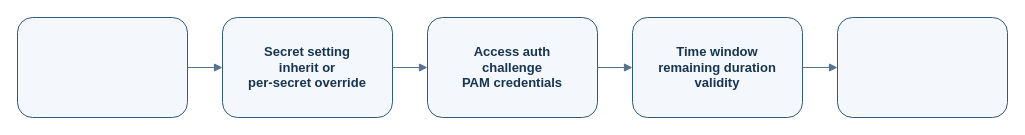
Some shapes in this 1025 by 135 pixel diagram are drawn without their labels. The shapes that lost their labels are listed below. From the top down, each one's box as (x1, y1, x2, y2) in pixels, then its label:
(16, 16, 188, 118): Folder policy Enable / Disable Not Set
(836, 16, 1008, 118): Edit / Launch gate to secret session
